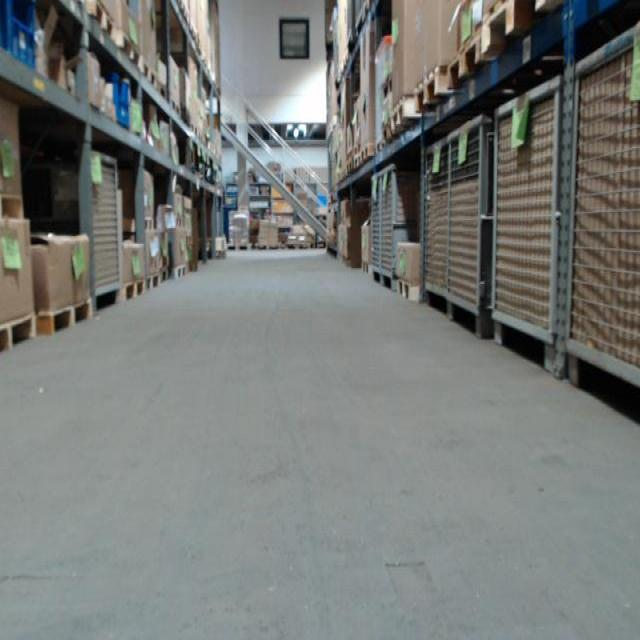pallet: (482, 0, 566, 55), (445, 29, 493, 94), (37, 299, 94, 338), (415, 69, 453, 117), (2, 314, 37, 353), (88, 0, 118, 45), (118, 34, 144, 74), (392, 101, 417, 132), (122, 281, 147, 303), (141, 59, 158, 91), (396, 278, 421, 299), (360, 142, 375, 166), (146, 273, 160, 291), (172, 264, 187, 280), (253, 243, 282, 251), (226, 243, 252, 251), (285, 243, 311, 249), (144, 218, 155, 230)
small_load_carrier: (3, 6, 43, 76), (113, 79, 130, 132)
stillage: (564, 19, 638, 410), (486, 68, 574, 361), (446, 110, 492, 337), (74, 140, 127, 308), (418, 125, 450, 313), (381, 160, 421, 295), (367, 168, 385, 287)
